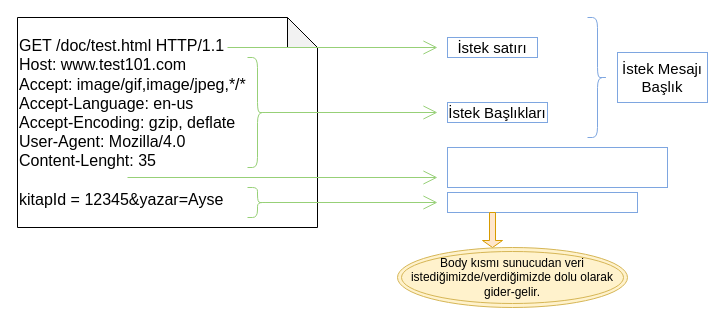
The diagram is 725 pixels wide and 325 high, and some of its shapes have lost their labels. The box of each missing label's shape, as (x1, y1, x2, y2) in pixels:
Başlık ve body bölümlerini ayırmak için bir satır boş bırakılır: (446, 146, 668, 188)
İstek Mesajı İçerik(Body): (446, 192, 638, 212)
